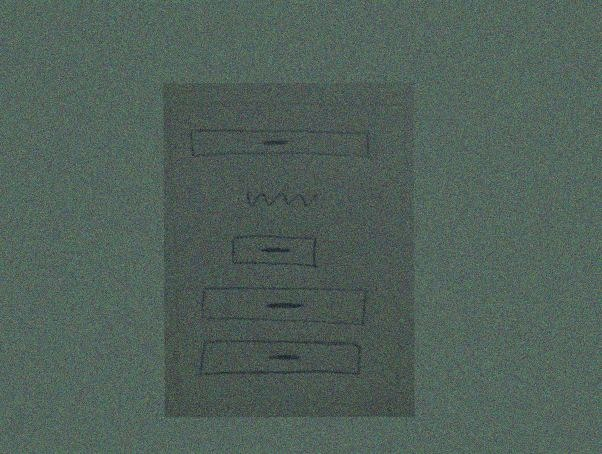button: (195, 282, 373, 331), (186, 124, 376, 169), (197, 336, 367, 381), (226, 231, 323, 275)
text: (242, 182, 319, 217)
